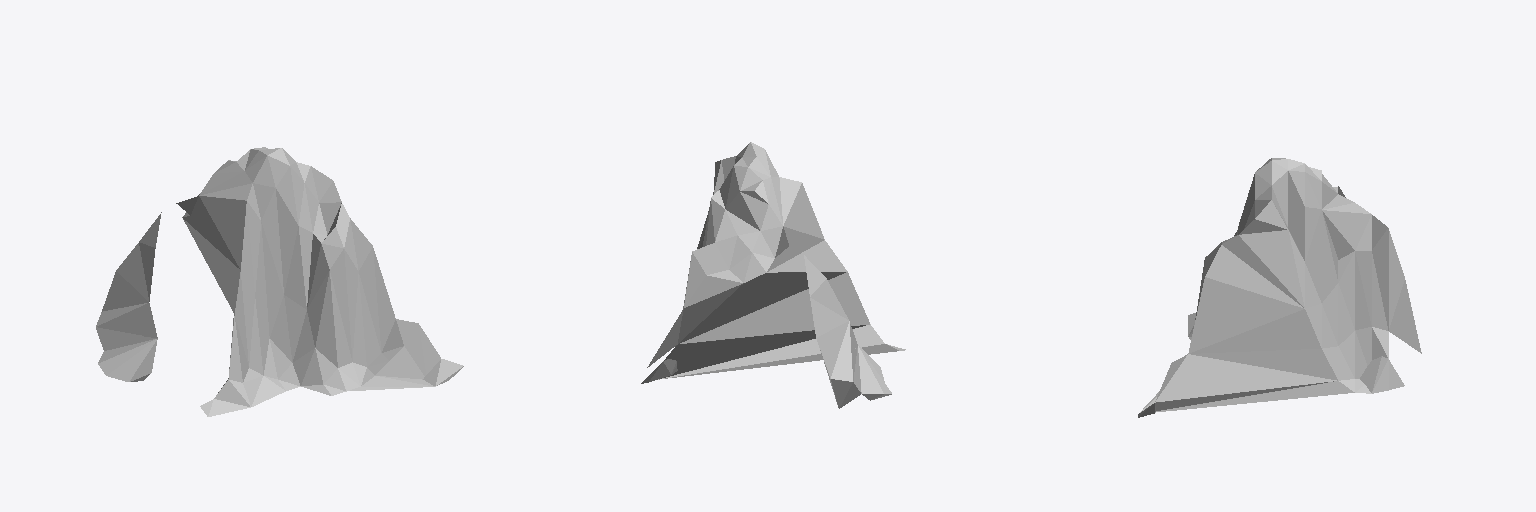
The model's file is tree_61.obj.
The picture shows the model from 3 angles: view 1: azimuth 30°, elevation 25°; view 2: azimuth 150°, elevation 25°; view 3: azimuth 270°, elevation 25°; orthographic projection.
Visible parts, largest first — view 1: tree_61_minus_dtm; view 2: tree_61_minus_dtm; view 3: tree_61_minus_dtm.
Part boxes in pixels (x1,y1,x2,y2): tree_61_minus_dtm: (96,147,463,416); tree_61_minus_dtm: (641,142,905,408); tree_61_minus_dtm: (1138,158,1421,417).
Bounding box in the file's own units: 19 × 14.02 × 17.